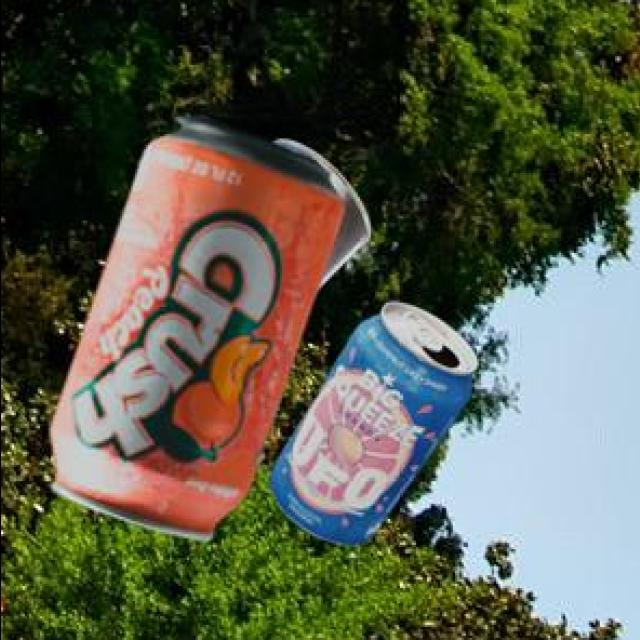logam: (53, 114, 347, 537), (271, 299, 479, 542), (276, 137, 371, 284)
